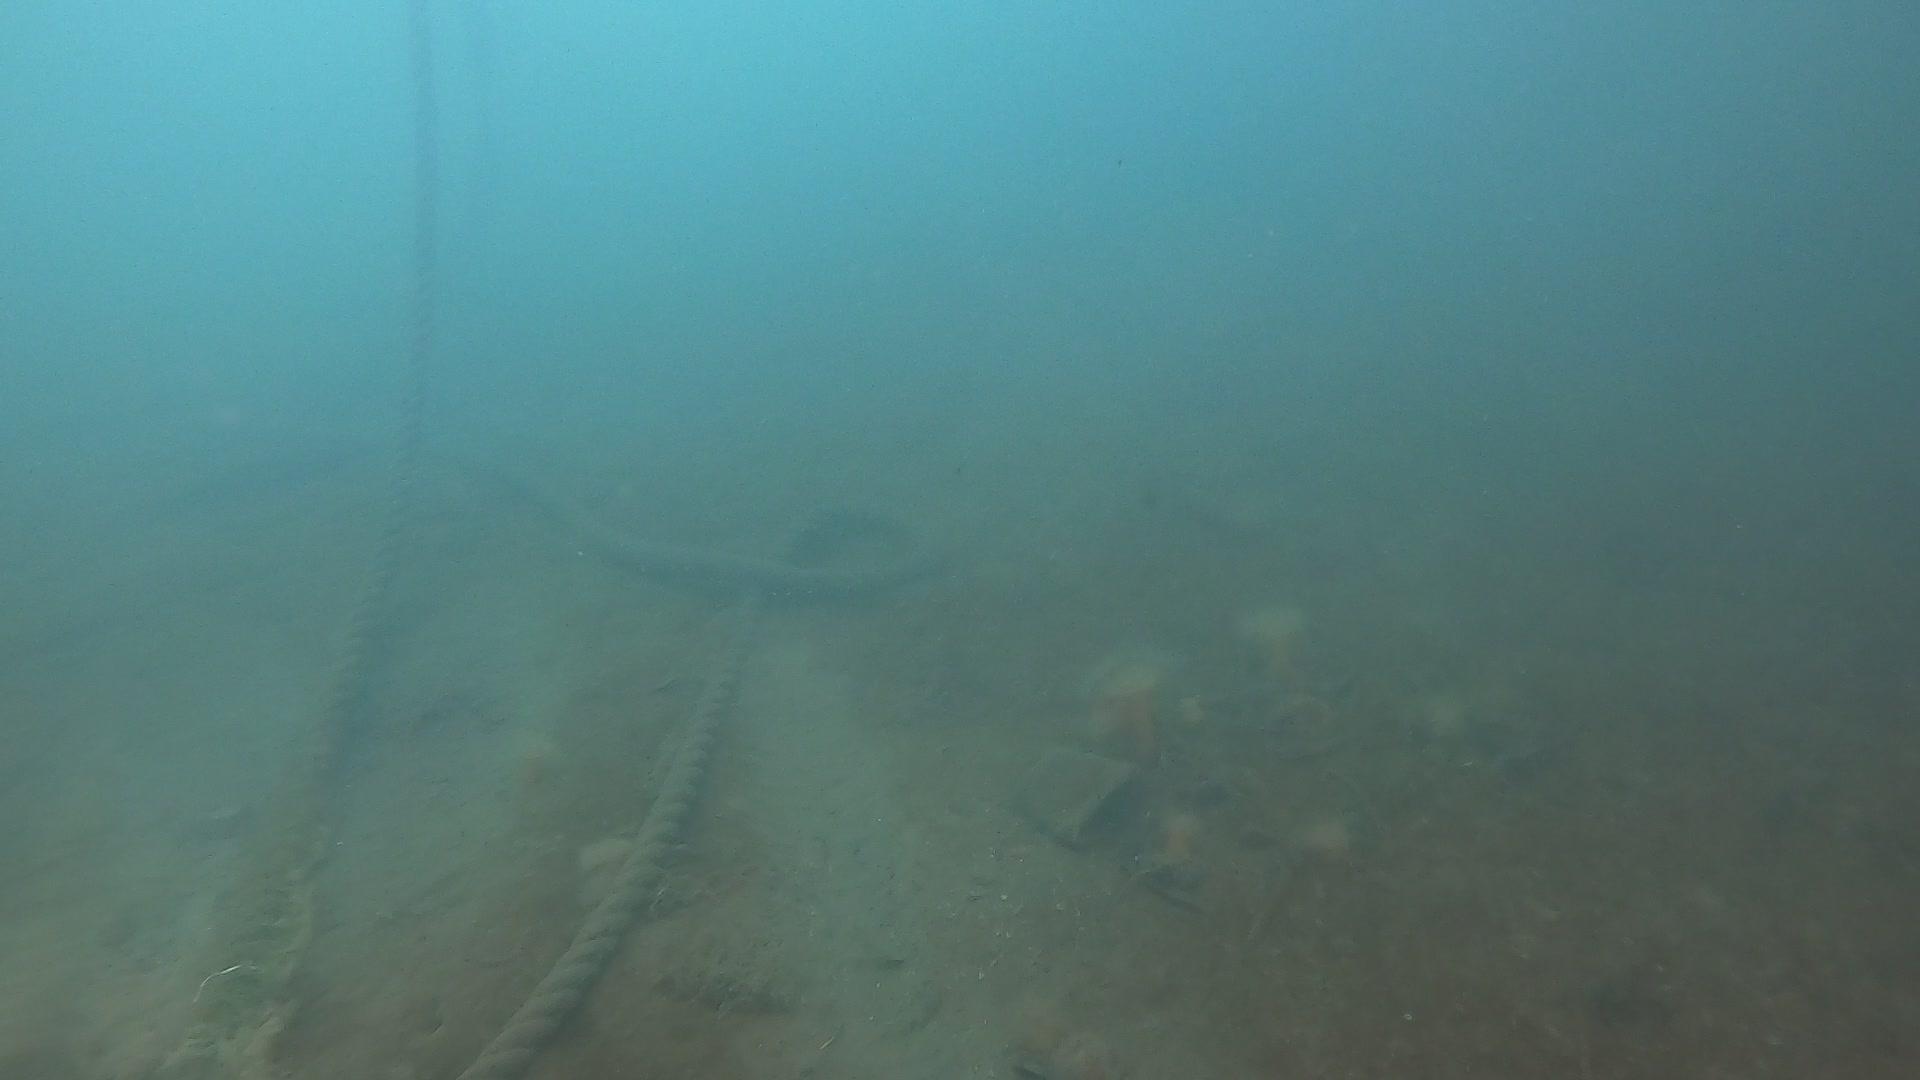bundle of ropes: (164, 7, 956, 1079)
